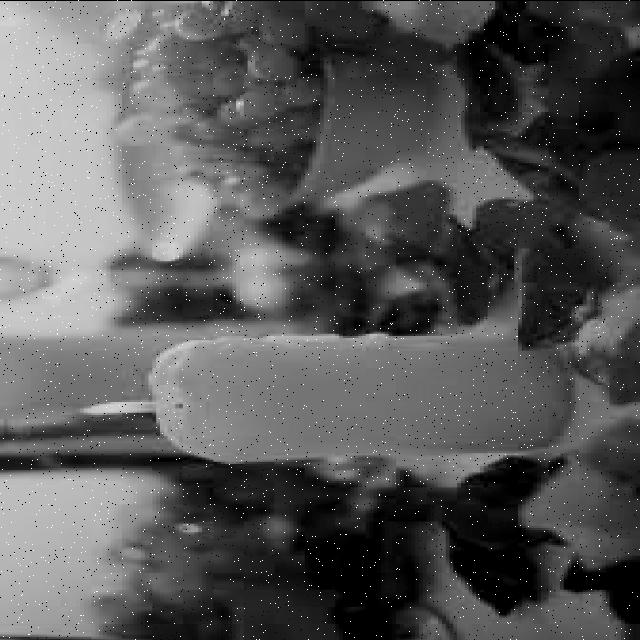api: (77, 394, 176, 422)
